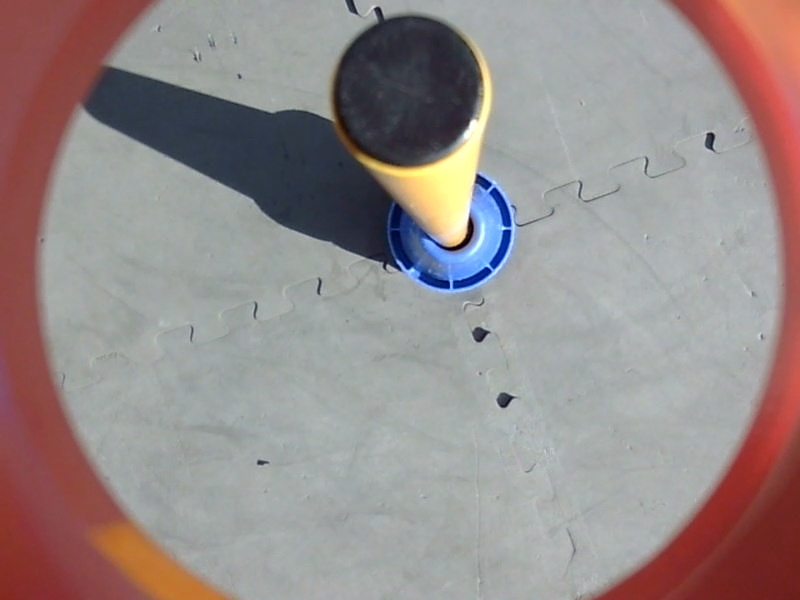tip: (321, 8, 500, 178)
